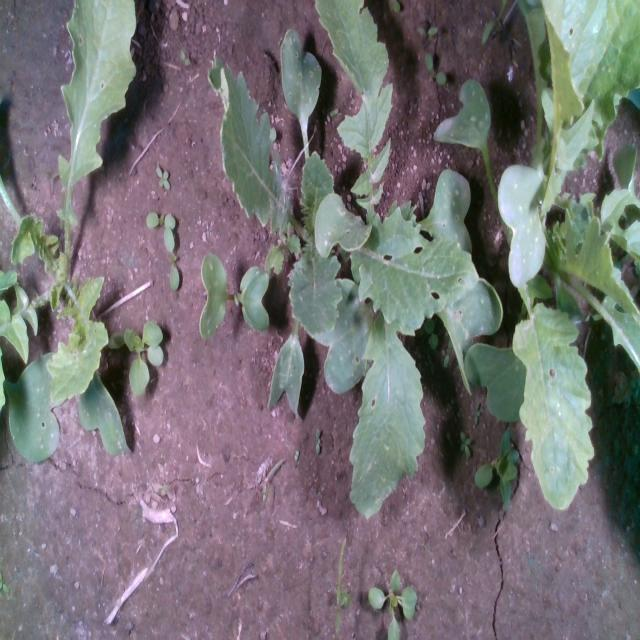weed: (424, 51, 448, 85), (154, 163, 172, 191), (458, 429, 471, 459), (178, 46, 190, 67), (416, 25, 438, 35), (314, 425, 320, 455), (292, 448, 298, 461)
